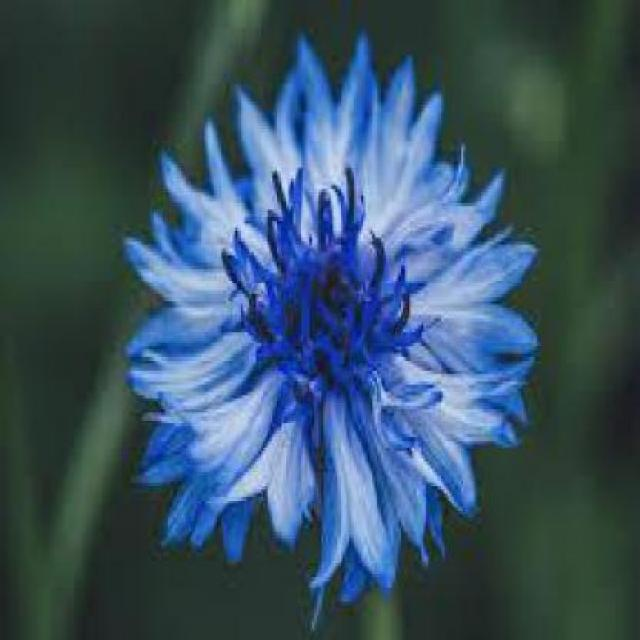flower: (121, 52, 547, 574)
